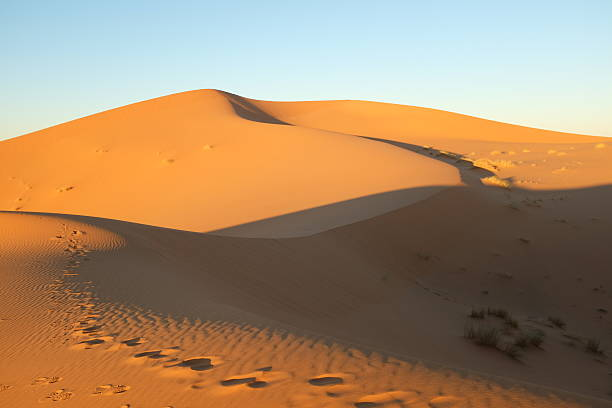human_foot_print: (292, 372, 428, 407), (191, 367, 291, 392), (291, 372, 359, 406), (72, 313, 113, 348), (161, 356, 222, 376), (354, 391, 419, 407), (130, 346, 180, 362), (308, 373, 354, 386), (175, 357, 213, 370), (72, 336, 112, 348), (109, 337, 145, 350), (428, 395, 462, 407), (92, 384, 129, 395), (40, 389, 73, 401), (308, 376, 343, 385), (75, 325, 101, 335), (31, 376, 61, 384), (121, 337, 144, 346), (0, 383, 12, 391)
